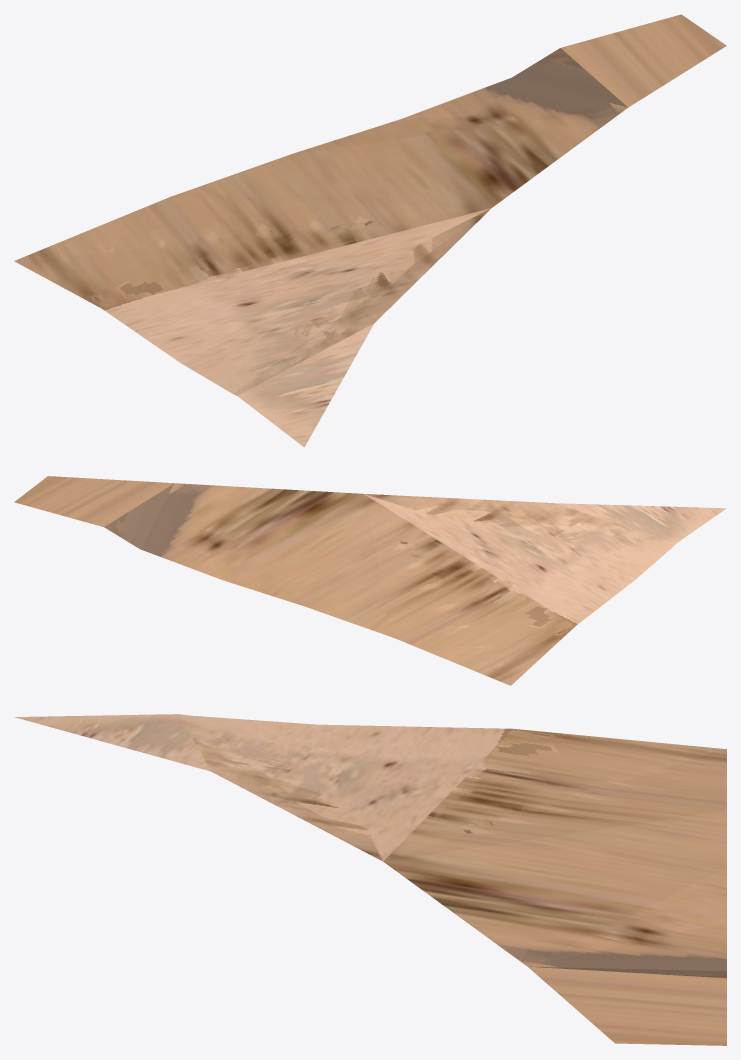
3 views of the same model, one above another, from view 1: azimuth 30°, elevation 25°; view 2: azimuth 150°, elevation 25°; view 3: azimuth 270°, elevation 25° (orthographic). The views are drawn at different scales.
Size of the model in its own units: 2.09 by 0.2565 by 1.57.
Materials: 1 (1 with a texture image).
